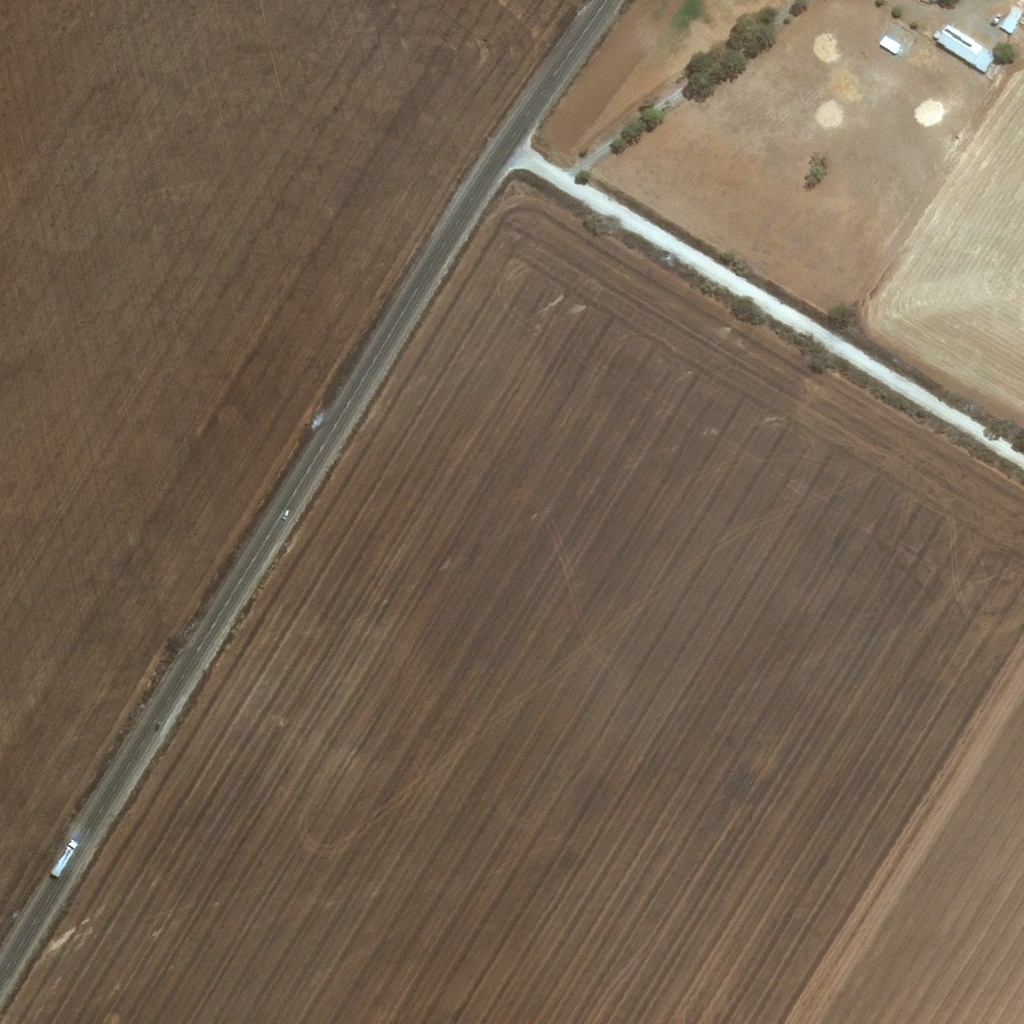0 no-damage: (937, 24, 996, 73), (998, 7, 1022, 35), (876, 35, 901, 56), (933, 32, 940, 39)
